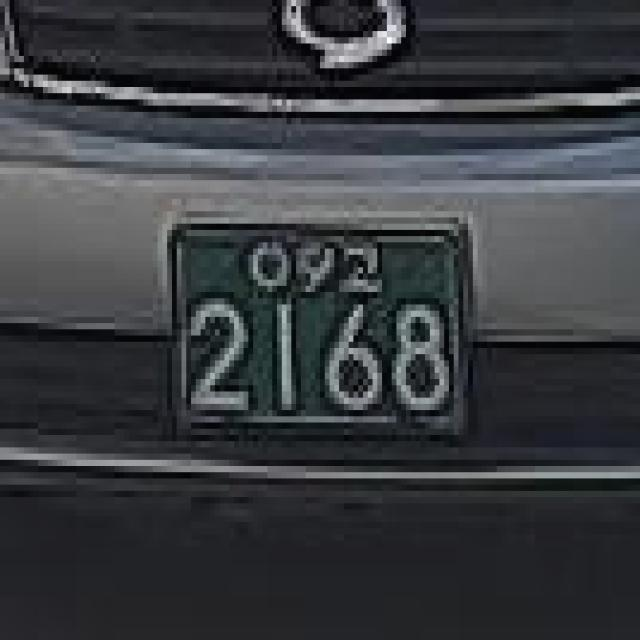illegal_plate: (153, 195, 486, 460)
